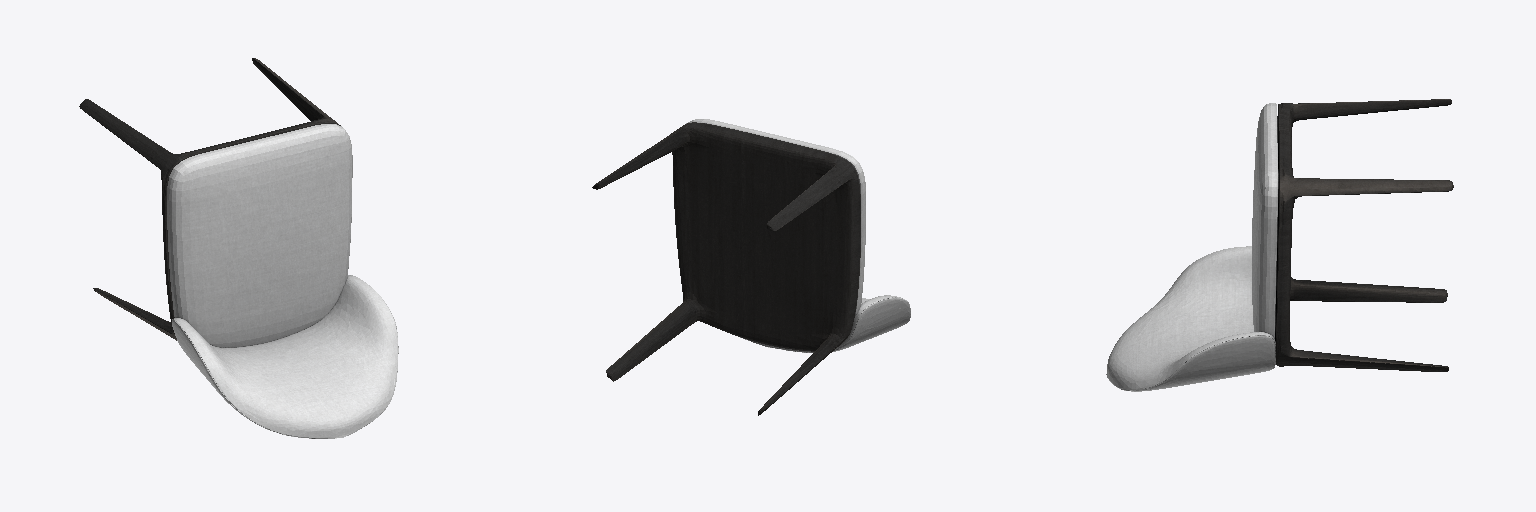
3 renders of one model, left to right at view 1: azimuth 30°, elevation 25°; view 2: azimuth 150°, elevation 25°; view 3: azimuth 270°, elevation 25°, orthographic.
Size of the model in its own units: 0.5149 by 0.6097 by 0.8097.
1 materials, 1 textured.